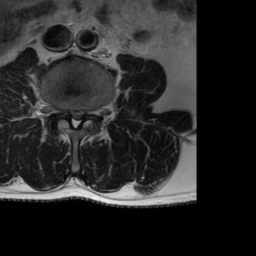CCS_normal: (73, 104, 78, 132)
LFS_severe_stenosis: (86, 102, 93, 125)
LLS_severe_stenosis: (79, 105, 85, 121)
RFS_severe_stenosis: (59, 102, 67, 123)
RLS_severe_stenosis: (66, 103, 73, 123)
